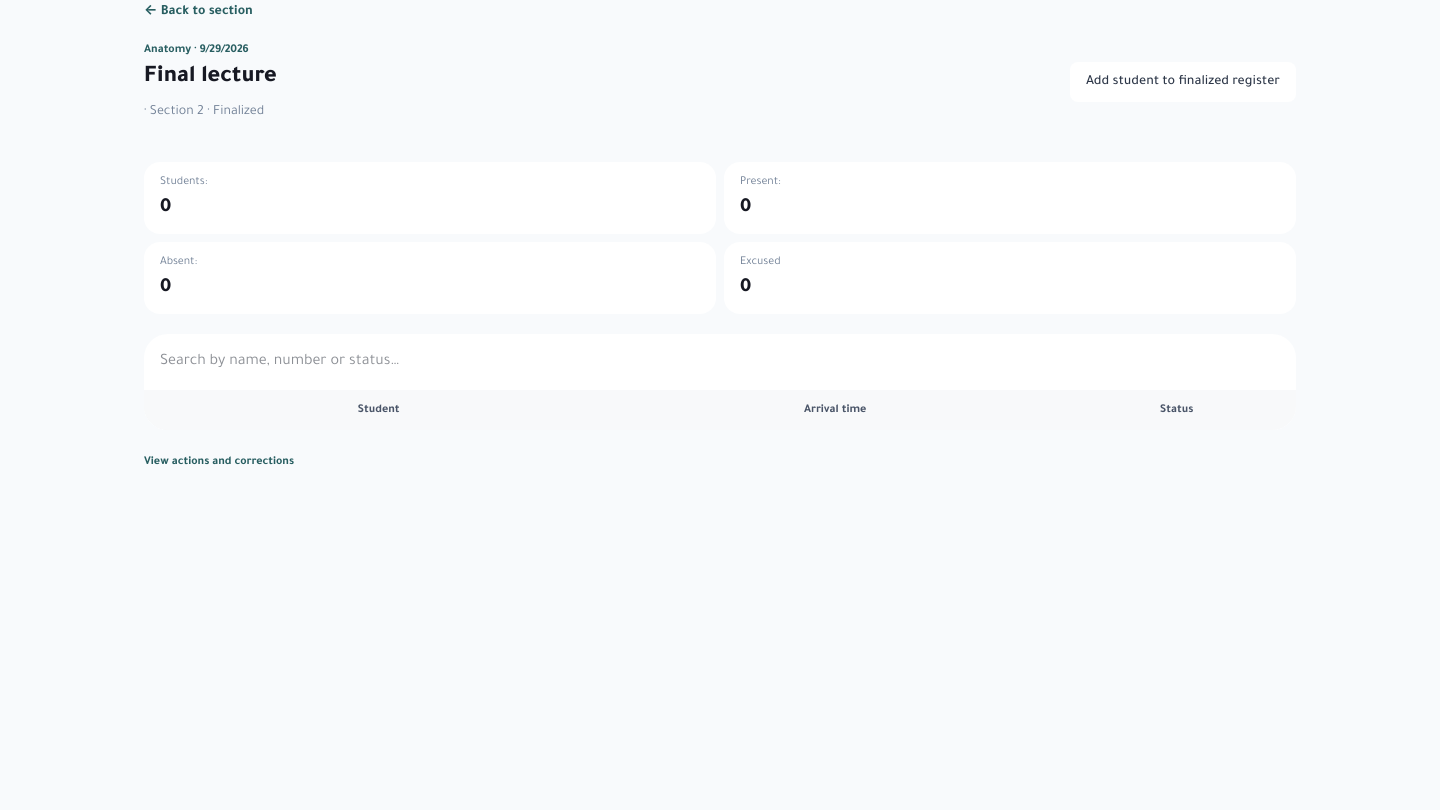
Test case: Isolated basic lecture attendance › adds a newly enrolled student to a finalized register only with the special permission
Click the button "Add student to finalized register": (1183, 82) [1070,62,1296,102]
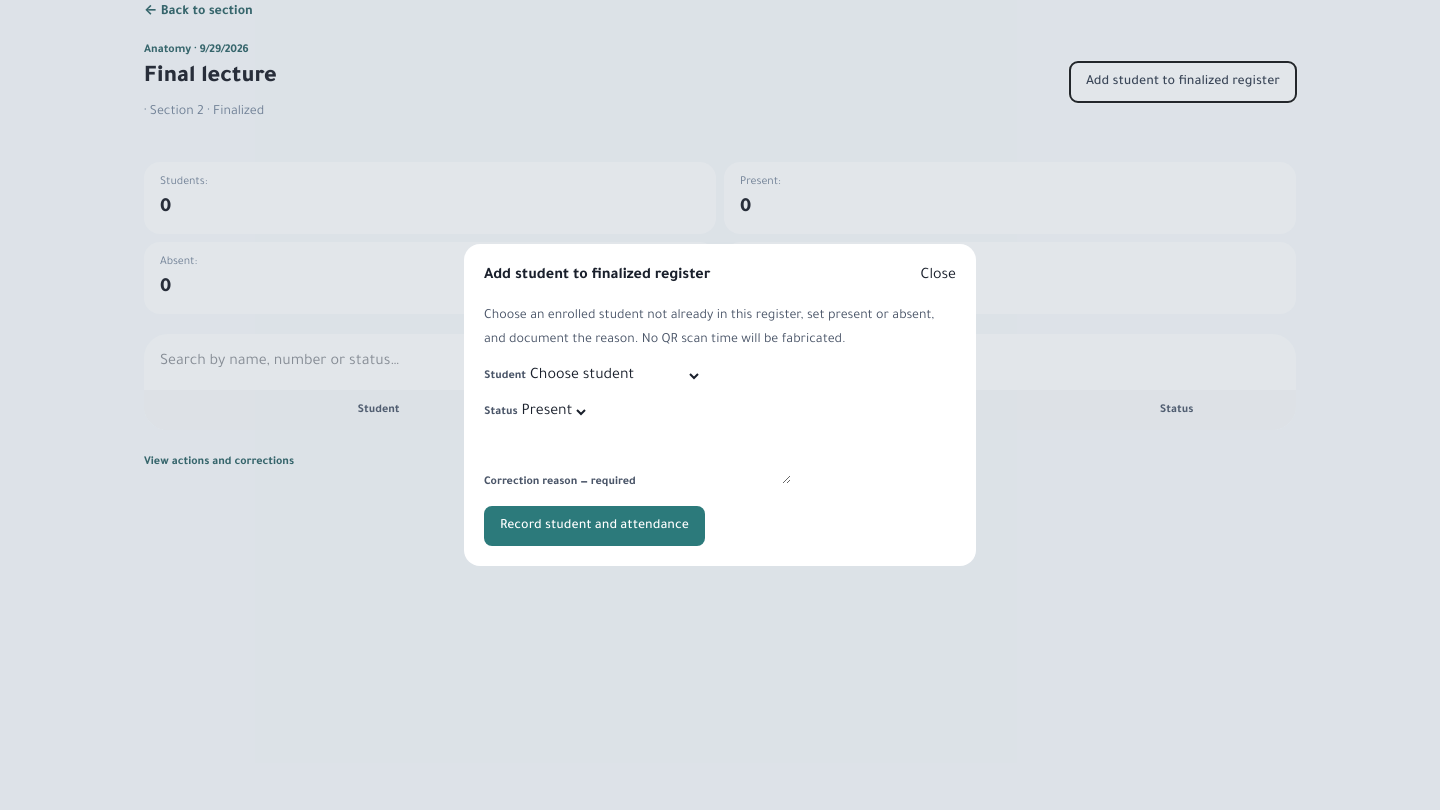
Select "New Student · 2600002" in the dropdown labelled "Student": (614, 376) [526,367,702,385]
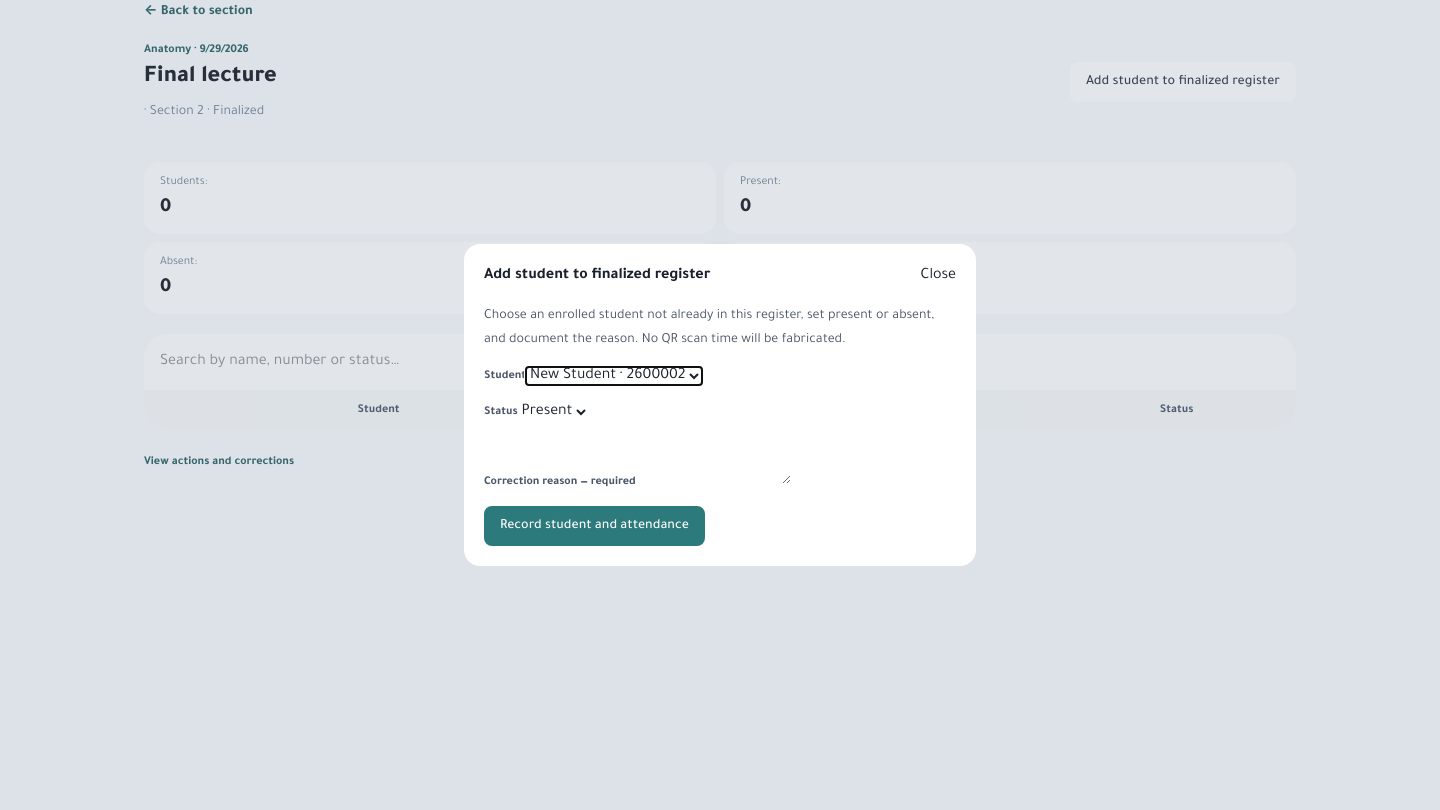
Select "Absent" in the dropdown labelled "Status": (553, 412) [518,403,589,421]
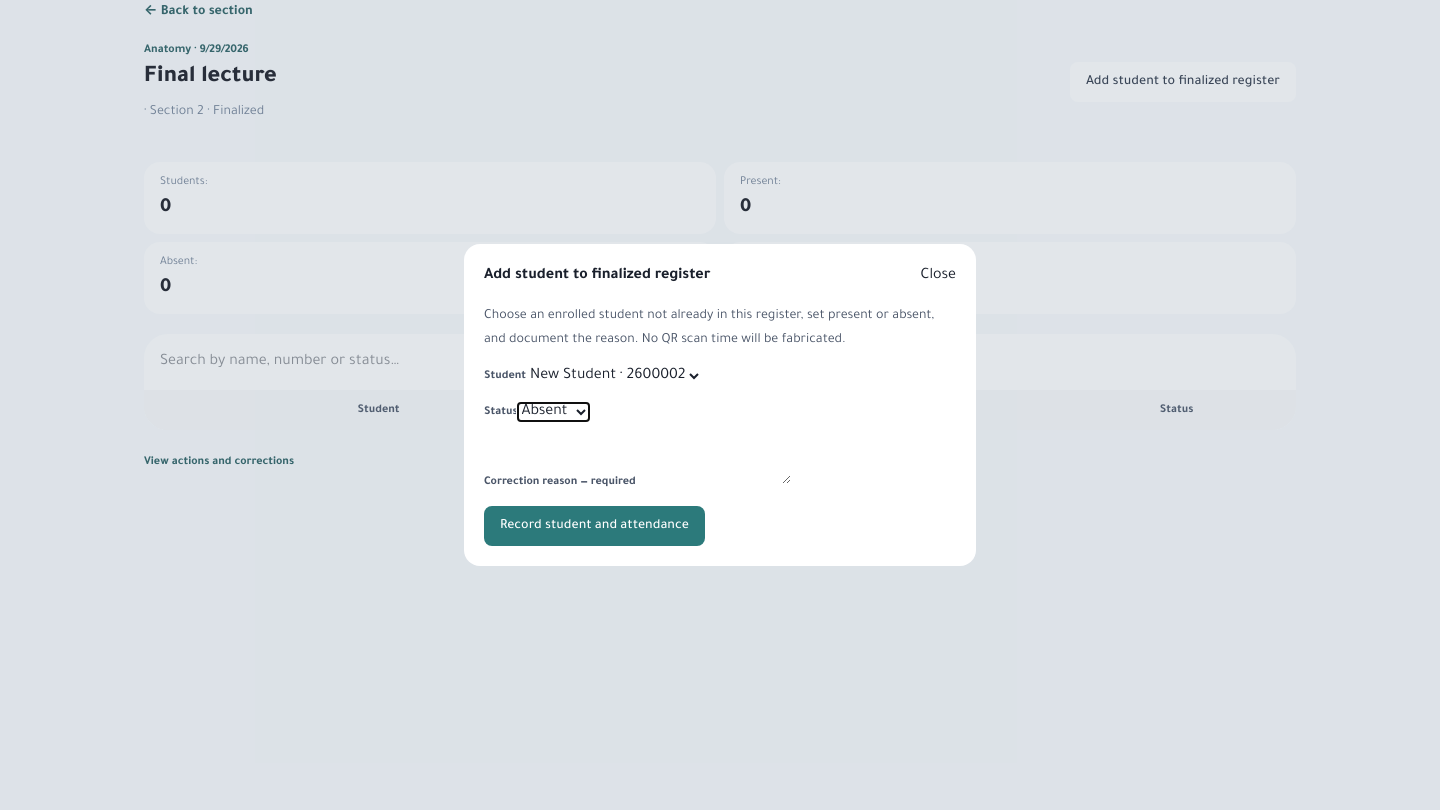
In the text box labelled "Correction reason — required": (713, 460) [636,436,791,484], type "Student enrolled after finalization"
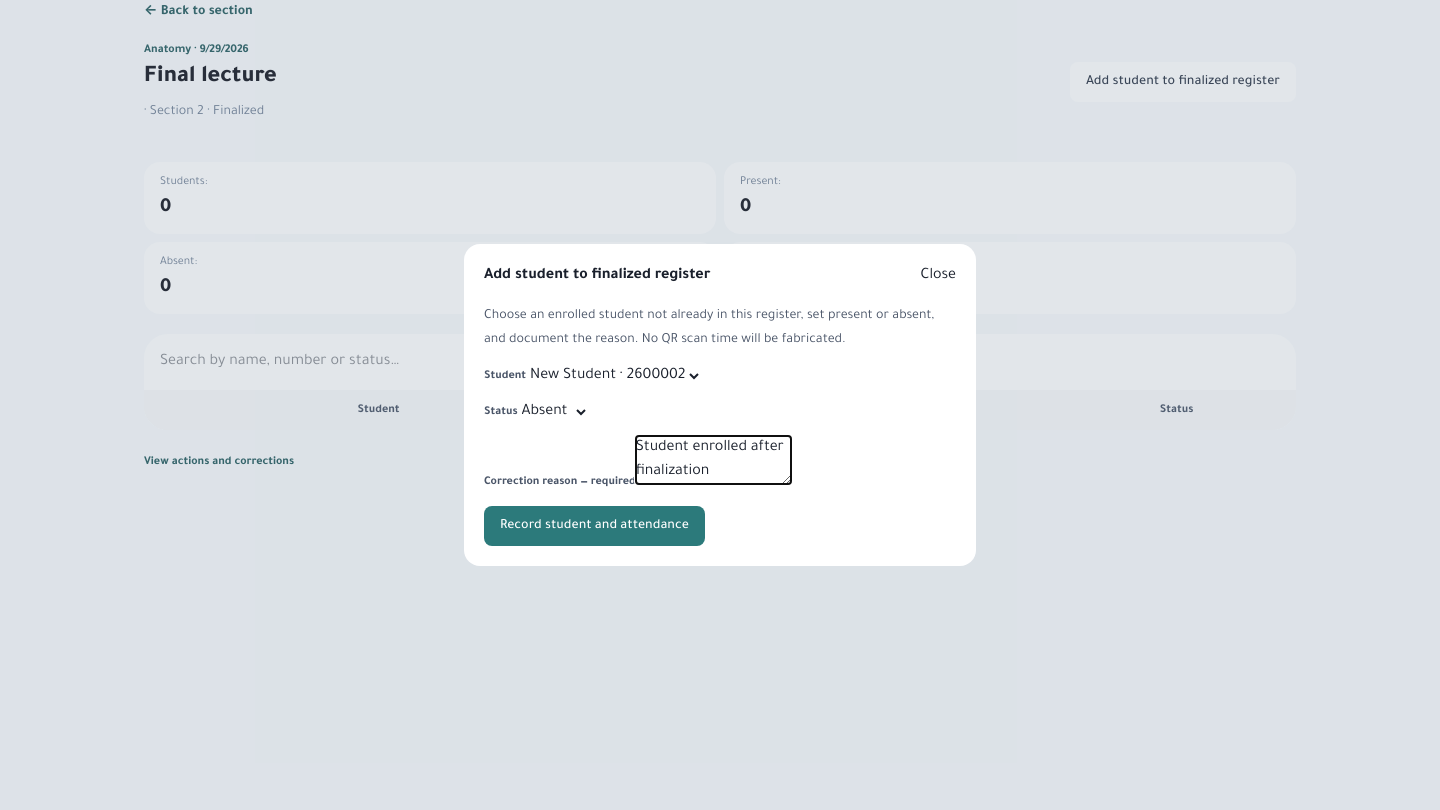
Click the button "Record student and attendance": (594, 526) [484,506,705,546]
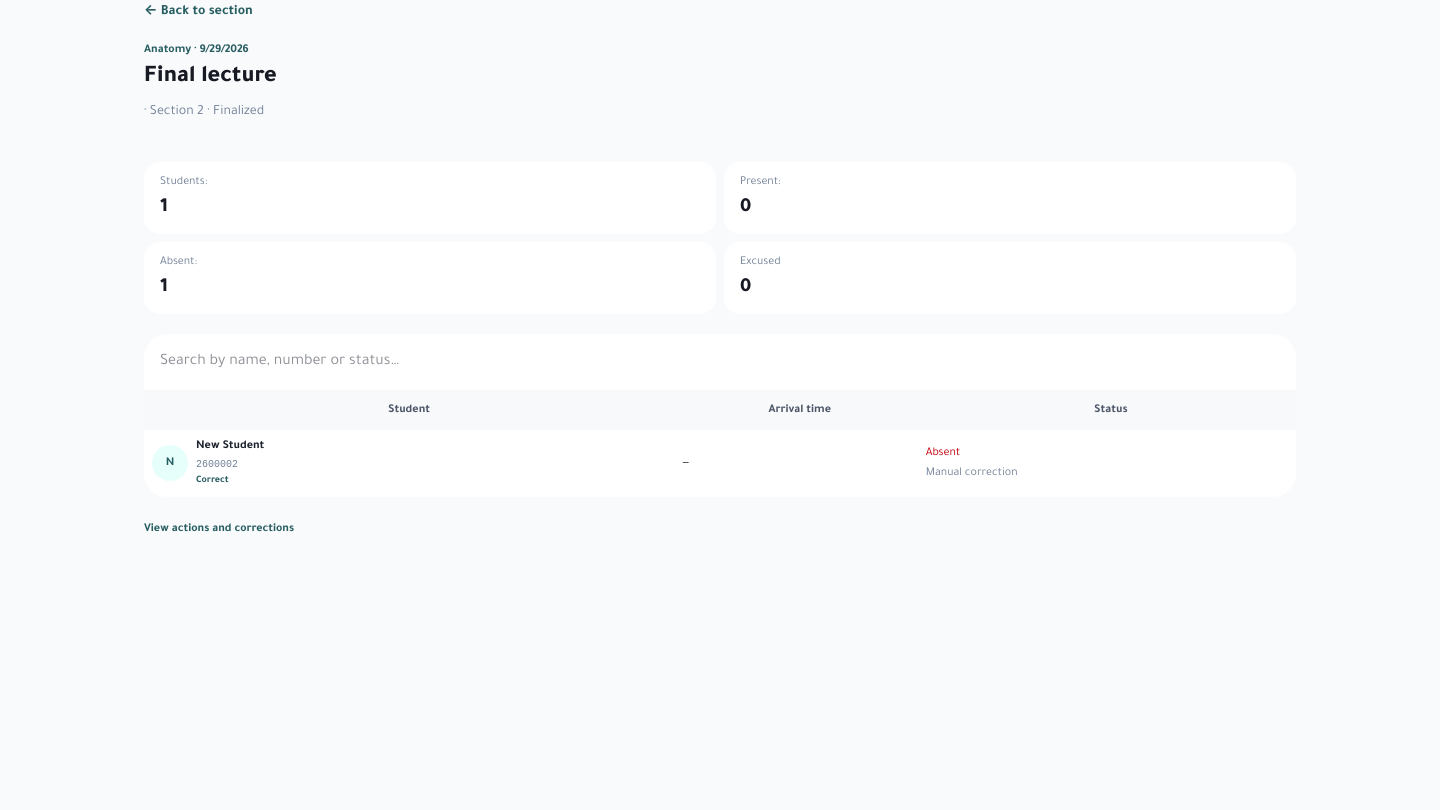
Expected: the text "New Student" is shown, [196,438,264,454]
